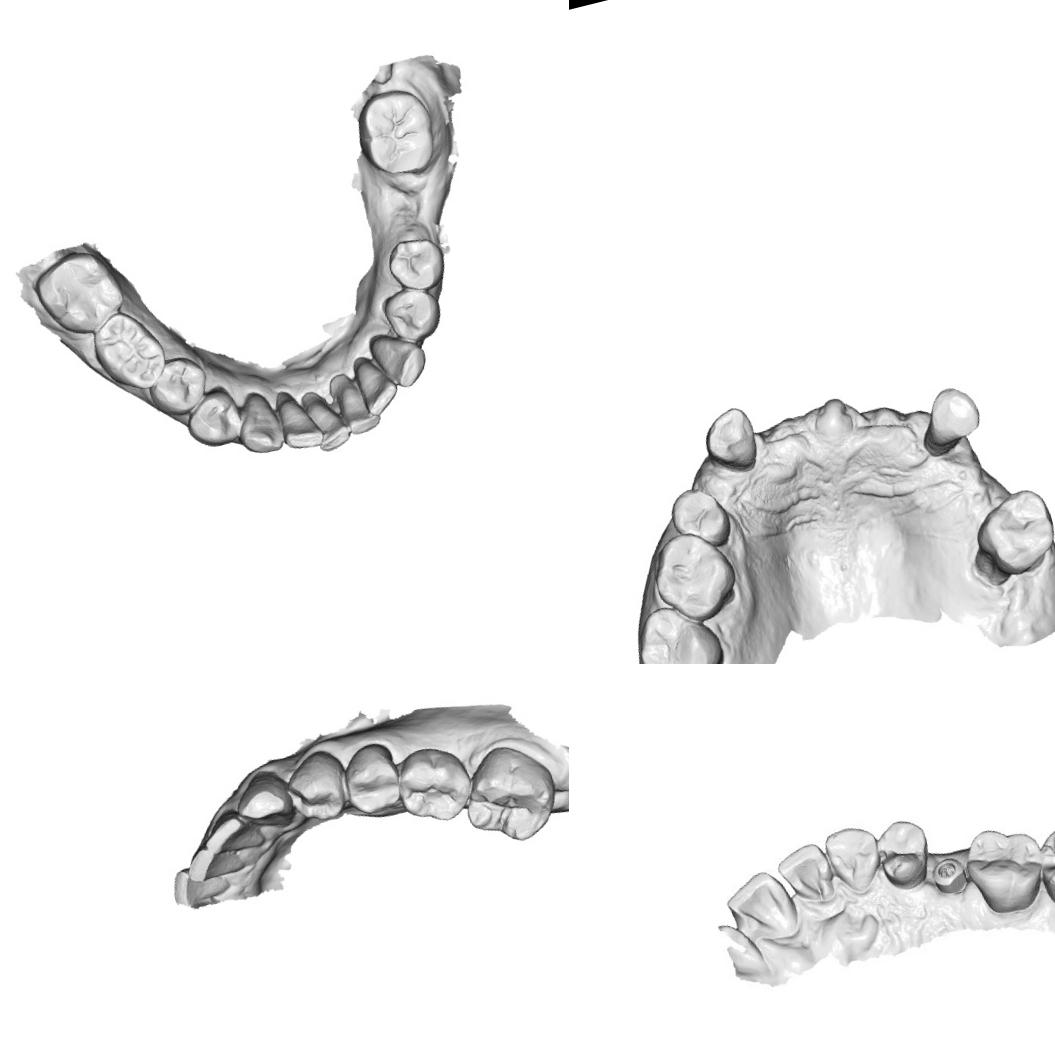canine: (910, 380, 988, 459), (818, 818, 887, 898), (696, 402, 764, 480), (365, 324, 433, 396), (231, 766, 298, 836), (228, 386, 288, 461)
implant: (926, 847, 974, 901)
incisor: (718, 863, 804, 947), (772, 835, 838, 907), (194, 806, 266, 863), (349, 352, 406, 420), (165, 857, 234, 913), (271, 391, 328, 456), (181, 836, 247, 887), (332, 377, 384, 439), (305, 391, 356, 454)
molar: (450, 732, 567, 853), (25, 238, 134, 347), (644, 523, 744, 630), (956, 816, 1052, 922), (350, 77, 445, 183), (960, 483, 1055, 589), (83, 300, 174, 402), (387, 736, 481, 832), (627, 593, 730, 664), (1026, 812, 1055, 914)
premolar: (333, 737, 406, 821), (279, 746, 353, 827), (664, 480, 736, 557), (139, 349, 214, 422), (379, 228, 452, 300), (869, 813, 934, 890), (178, 381, 246, 454), (377, 280, 446, 350)
